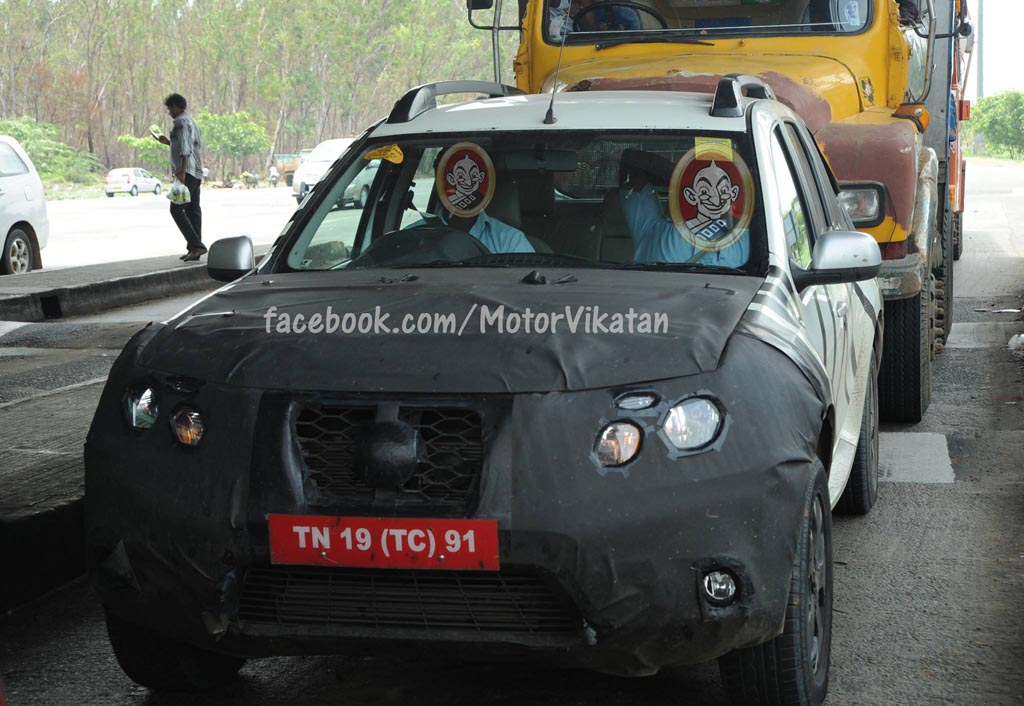number_plate: (267, 509, 502, 573)
